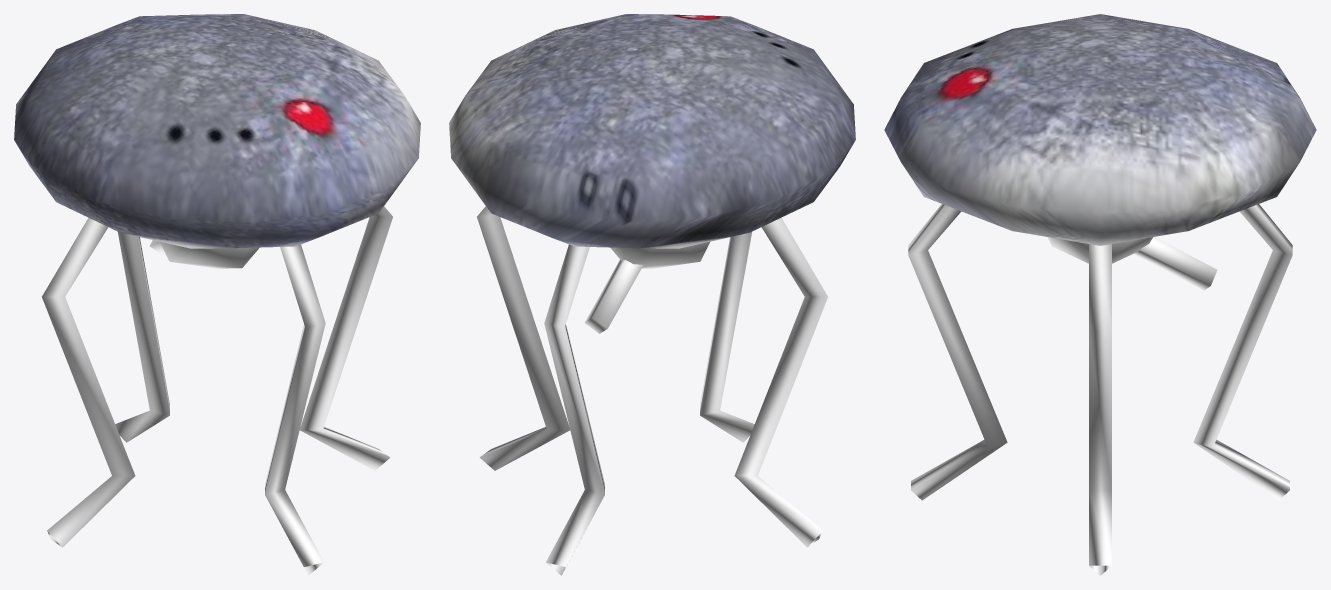
File: drone.obj
3 views of the same model, side by side, from view 1: azimuth 30°, elevation 25°; view 2: azimuth 150°, elevation 25°; view 3: azimuth 270°, elevation 25° (orthographic).
Parts seen in each view (by area): view 1: body, leg_1, leg_3, leg_2, leg_4, turret; view 2: body, leg_1, leg_4, leg_2, leg_3, turret_pipe, turret; view 3: body, leg_2, leg_4, leg_3, turret_pipe, turret.
Part boxes in pixels (<box>): body: <box>14,14,420,248</box>; leg_1: <box>42,217,135,547</box>; leg_3: <box>265,244,325,575</box>; leg_2: <box>299,206,392,470</box>; leg_4: <box>115,232,169,442</box>; turret: <box>160,241,259,268</box>; body: <box>449,14,855,248</box>; leg_1: <box>734,217,827,547</box>; leg_4: <box>544,244,604,575</box>; leg_2: <box>477,206,570,470</box>; leg_3: <box>700,232,754,442</box>; turret_pipe: <box>584,259,643,333</box>; turret: <box>610,241,709,268</box>; body: <box>884,14,1316,245</box>; leg_2: <box>1089,244,1111,575</box>; leg_4: <box>1193,204,1292,500</box>; leg_3: <box>908,204,1007,500</box>; turret_pipe: <box>1134,237,1217,290</box>; turret: <box>1047,237,1152,263</box>.
Bounding box in the file's own units: 1.5 × 1.88 × 1.63.
